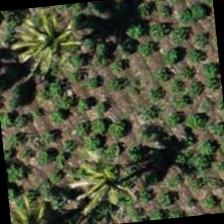Kelapa_Sawit: (55, 137, 155, 223), (0, 2, 95, 83), (7, 176, 72, 223)
